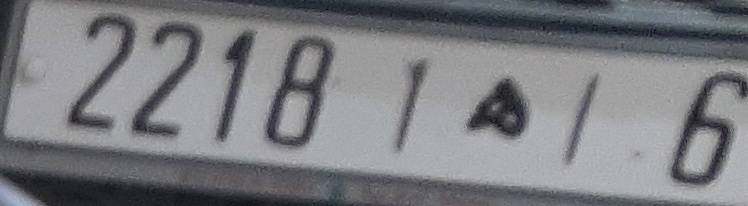1: (211, 26, 261, 143)
2: (64, 11, 135, 129), (134, 22, 202, 138)
6: (659, 71, 748, 185)
8: (265, 33, 338, 150)
h: (457, 72, 537, 144)
